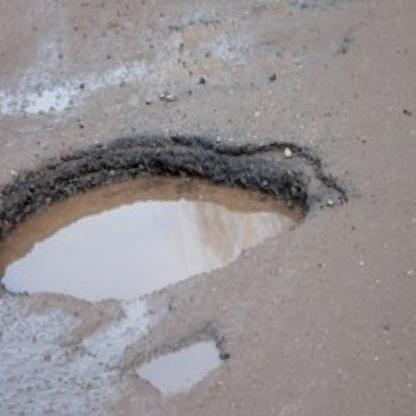pothole: (0, 94, 363, 332), (127, 325, 232, 403), (198, 0, 407, 29)
